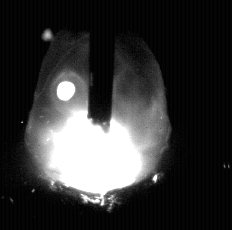arame: (89, 0, 112, 133)
poca: (23, 0, 168, 230)
